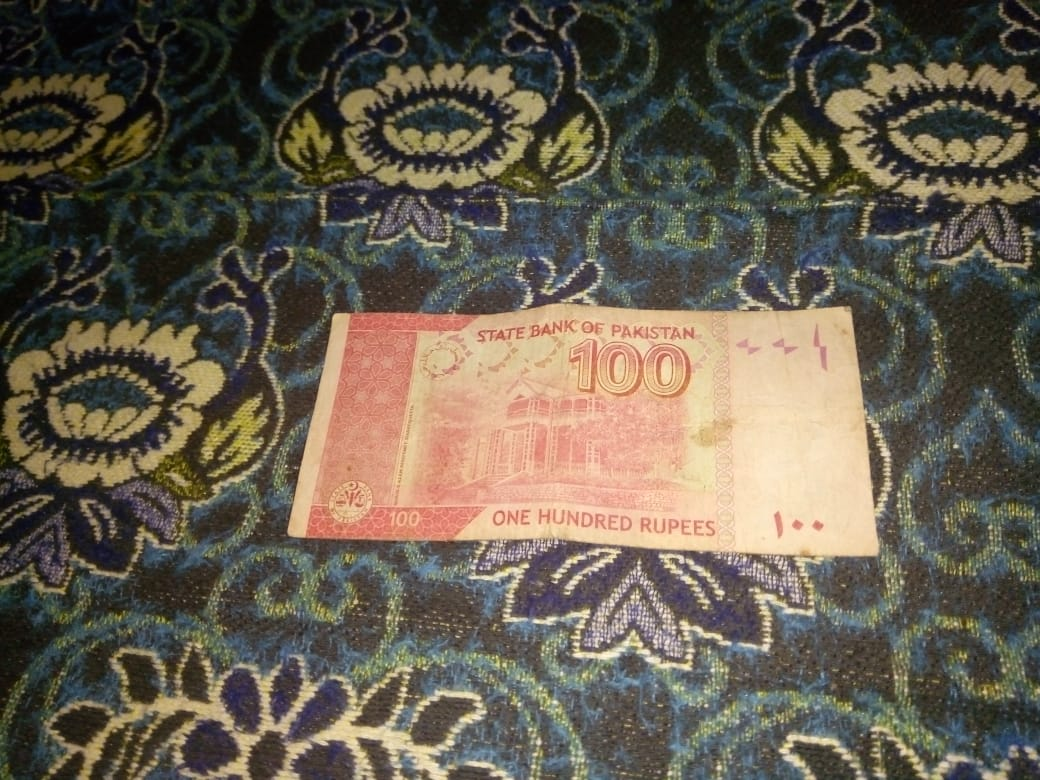100 rupee: (291, 279, 893, 589)
